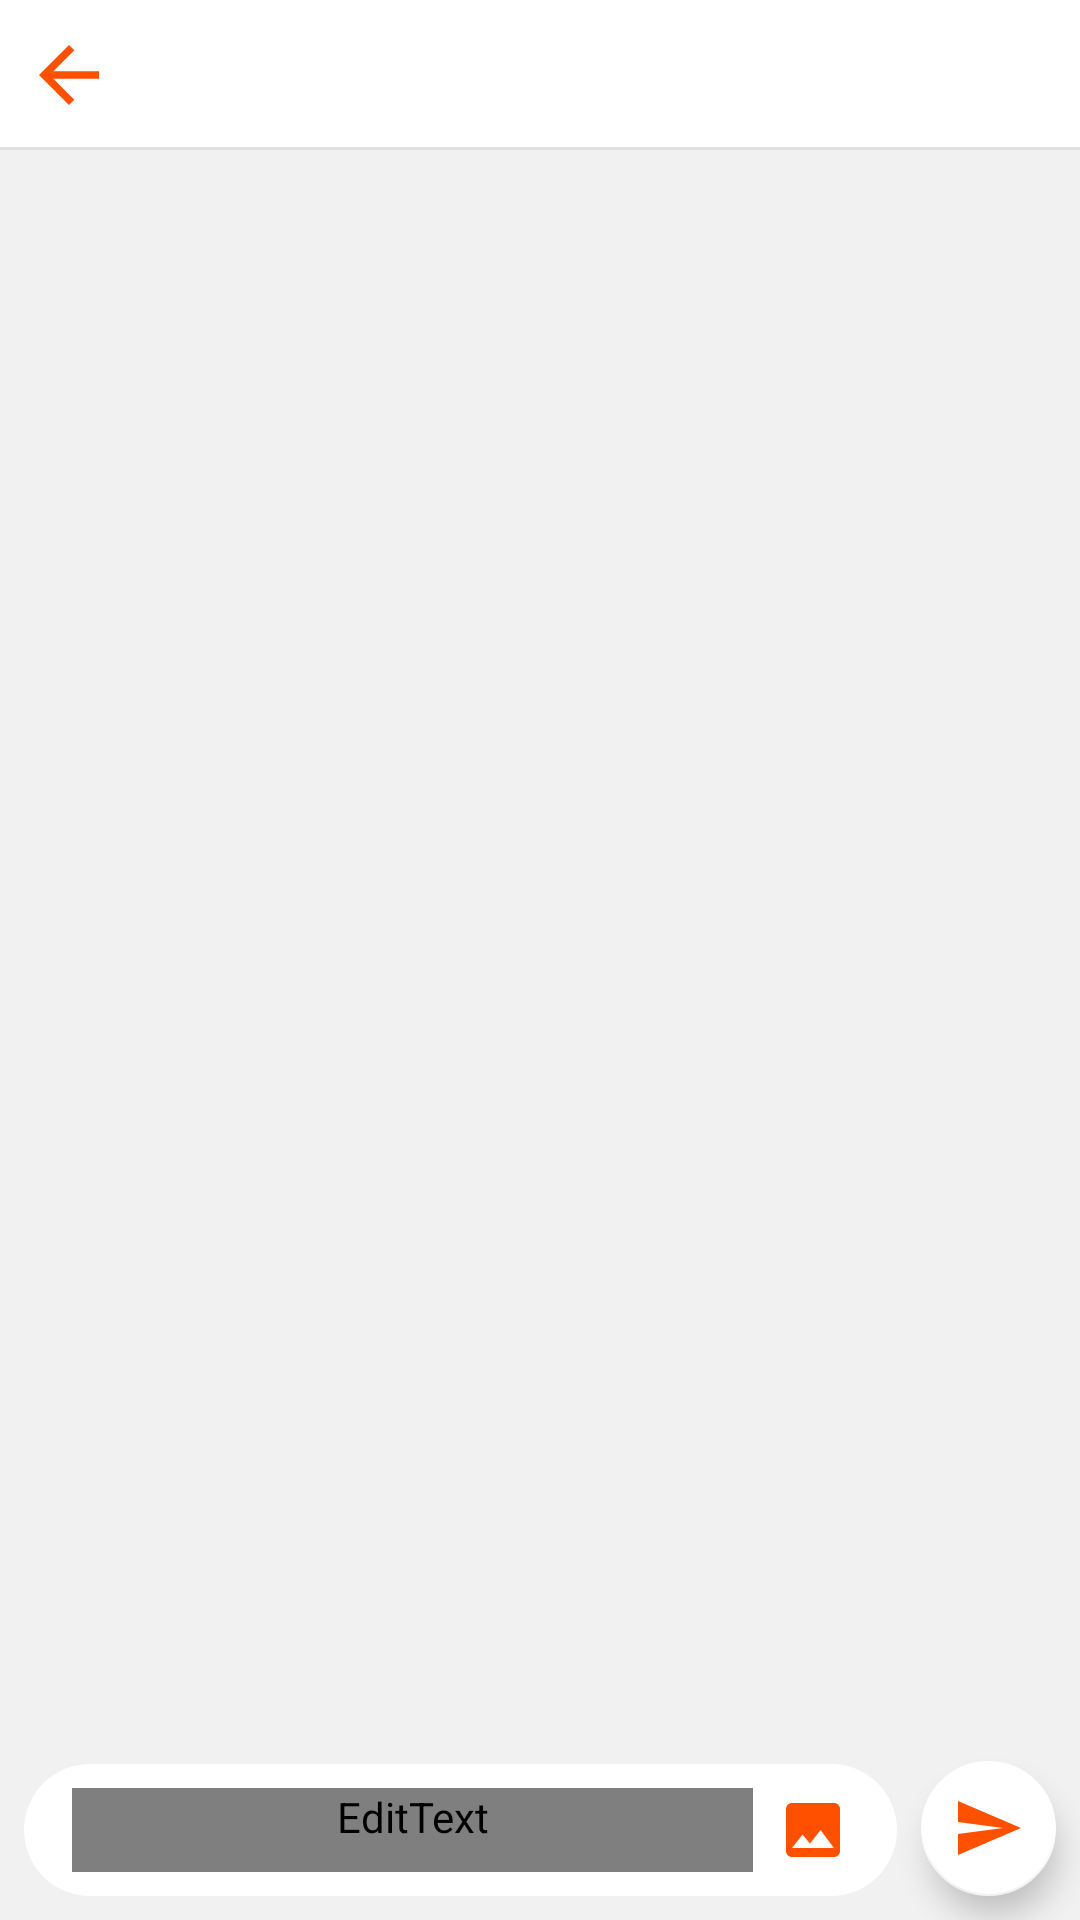

Locate icon controls on the screen. Image size 1080*1920, boxes as rect(x1, y1, x2, y2).
arrow back: rect(39, 45, 99, 105)
insert photo: rect(786, 1803, 840, 1857)
send: rect(921, 1761, 1056, 1896)
